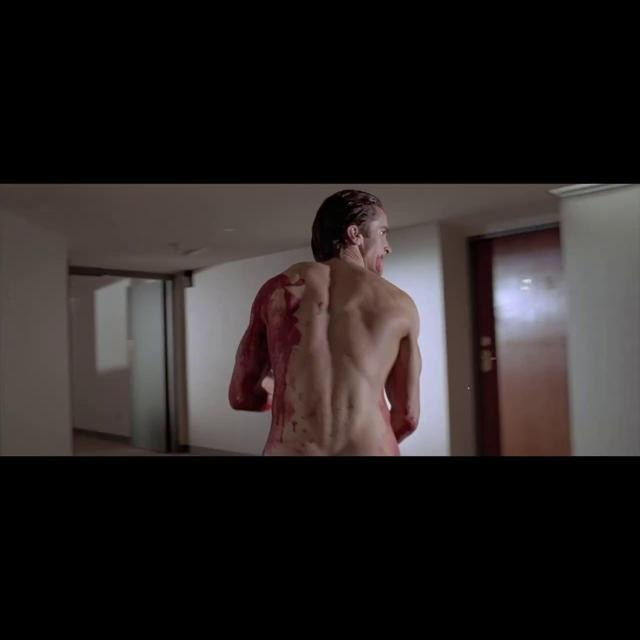blood: (228, 273, 306, 461), (378, 380, 420, 443)
